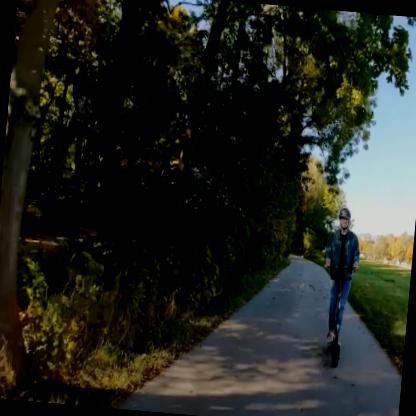helmet: (336, 204, 353, 233)
human: (322, 205, 361, 336)
kickboard: (320, 335, 344, 371)
